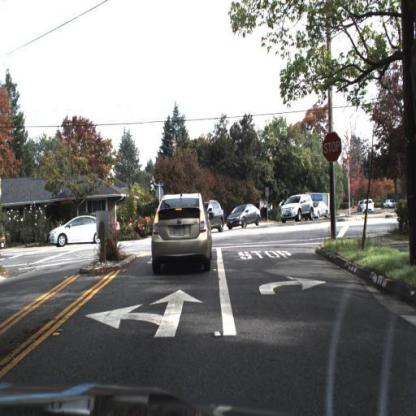car: (151, 188, 213, 272), (52, 213, 104, 246), (281, 193, 314, 227), (228, 203, 263, 230), (364, 199, 376, 214)
